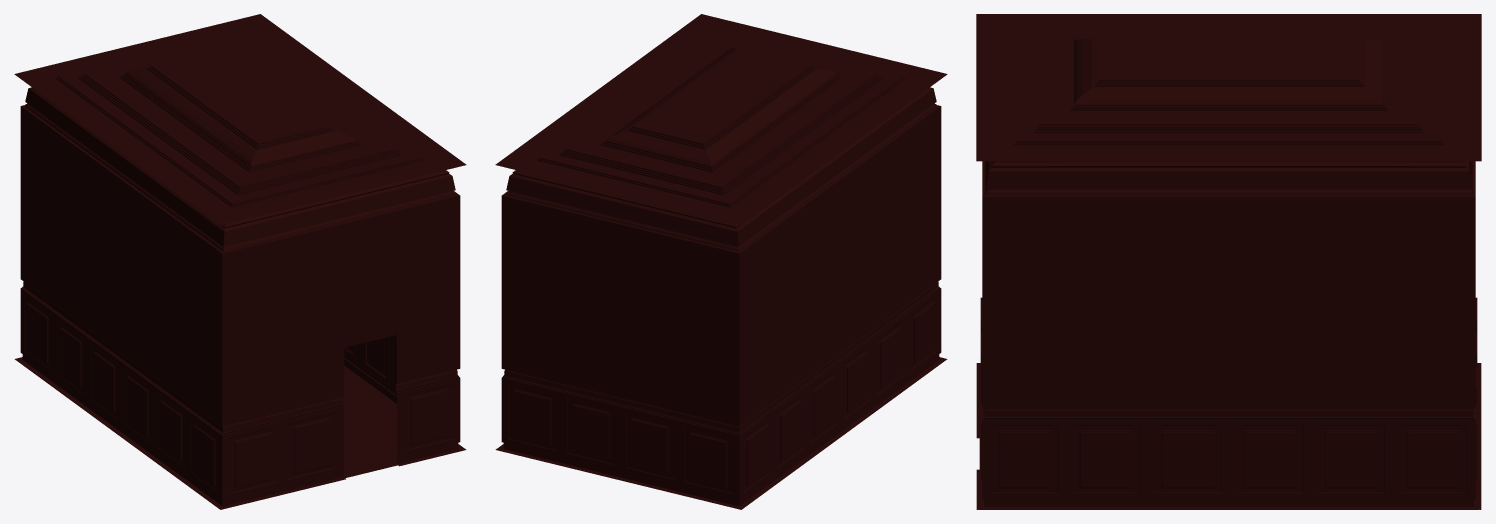
File: 1door_1.FBX
3 views of the same model, side by side, from view 1: azimuth 30°, elevation 25°; view 2: azimuth 150°, elevation 25°; view 3: azimuth 270°, elevation 25° (orthographic). The views are drawn at different scales.
Parts seen in each view (by area): view 1: walls, ceiling, floor; view 2: walls, ceiling, floor; view 3: walls, ceiling, floor.
Boxes of the visible parts, x1,y1,x2,y2 form: walls: (14, 14, 466, 509); ceiling: (16, 24, 464, 224); floor: (19, 358, 461, 508); walls: (495, 14, 947, 509); ceiling: (497, 24, 945, 224); floor: (500, 358, 942, 508); walls: (976, 14, 1481, 509); ceiling: (976, 14, 1481, 161); floor: (979, 364, 1478, 508).
Size of the model in its own units: 160 by 232 by 192.
